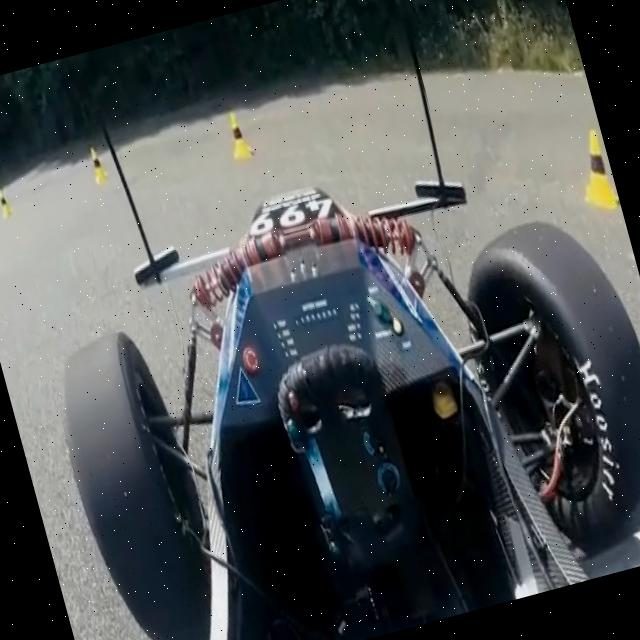yellow_cone: (559, 116, 622, 220), (219, 105, 254, 163), (81, 144, 112, 182), (0, 188, 13, 218)
